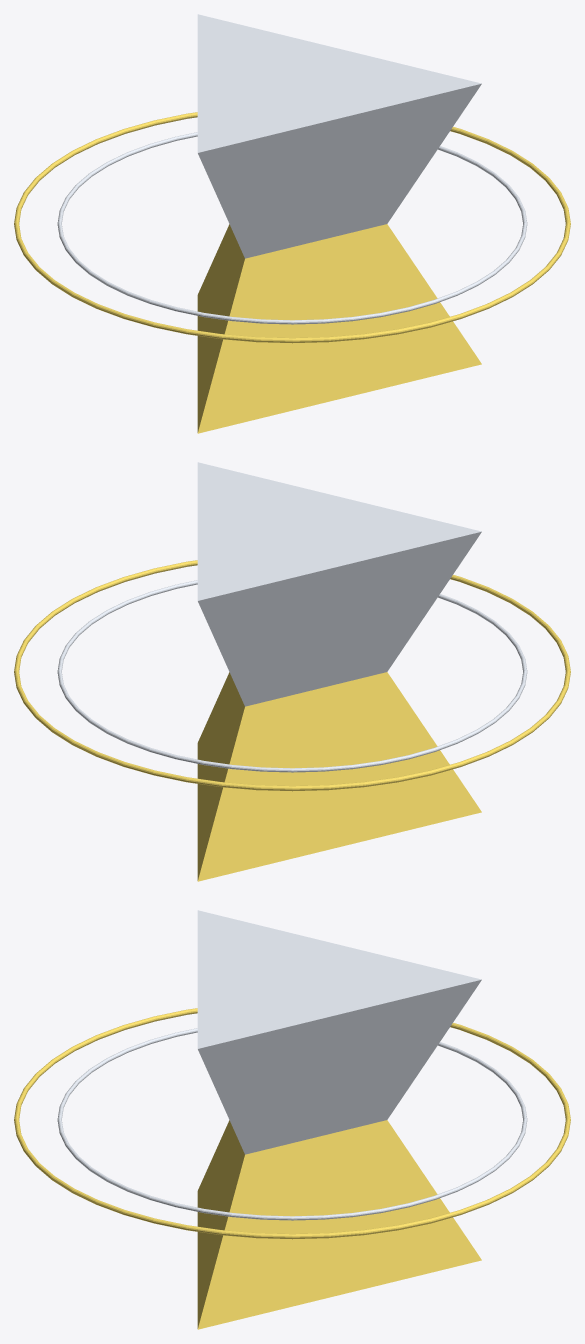
File: merkabah_hologram.glb
3 renders of one model, top to bottom at view 1: azimuth 30°, elevation 25°; view 2: azimuth 150°, elevation 25°; view 3: azimuth 270°, elevation 25°, orthographic.
Visible parts, largest first — view 1: Tetrahedron_Earth, Tetrahedron_Sun, Ring_Gold_Outer, Ring_Silver_Mid; view 2: Tetrahedron_Earth, Tetrahedron_Sun, Ring_Gold_Outer, Ring_Silver_Mid; view 3: Tetrahedron_Earth, Tetrahedron_Sun, Ring_Gold_Outer, Ring_Silver_Mid.
Boxes of the visible parts, bbox=[...] form: Tetrahedron_Earth: bbox=[197, 14, 481, 258]; Tetrahedron_Sun: bbox=[197, 224, 481, 433]; Ring_Gold_Outer: bbox=[14, 112, 570, 343]; Ring_Silver_Mid: bbox=[57, 132, 527, 324]; Tetrahedron_Earth: bbox=[197, 462, 481, 706]; Tetrahedron_Sun: bbox=[197, 672, 481, 881]; Ring_Gold_Outer: bbox=[14, 560, 570, 791]; Ring_Silver_Mid: bbox=[57, 580, 527, 772]; Tetrahedron_Earth: bbox=[197, 910, 481, 1154]; Tetrahedron_Sun: bbox=[197, 1120, 481, 1329]; Ring_Gold_Outer: bbox=[14, 1008, 570, 1239]; Ring_Silver_Mid: bbox=[57, 1028, 527, 1220].
Size of the model in its own units: 6.46 by 3.59 by 6.46.
